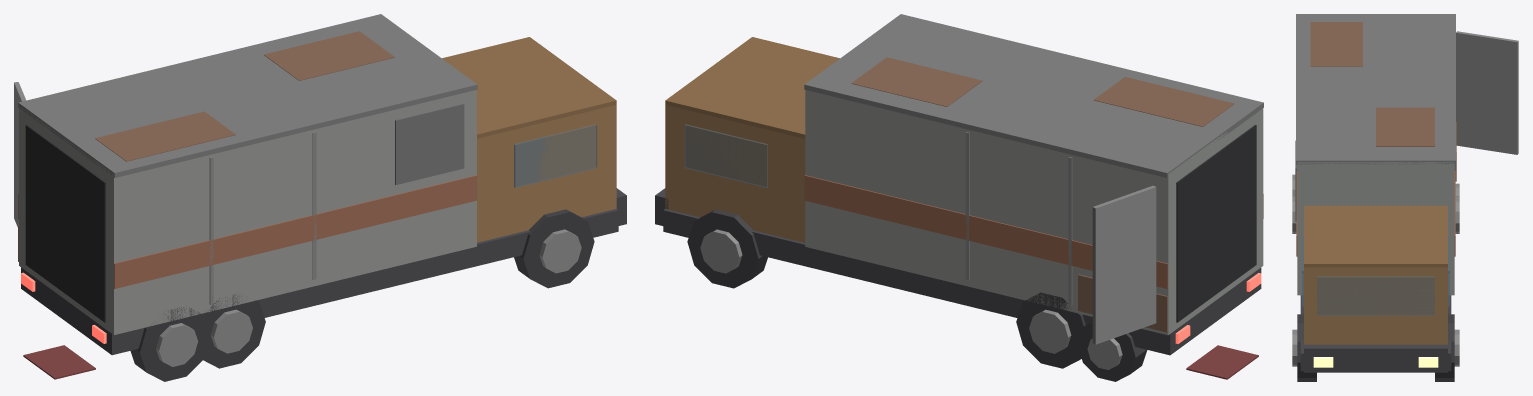
Rendered from caminhao.glb.
The picture shows the model from 3 angles, left to right: view 1: azimuth 30°, elevation 25°; view 2: azimuth 150°, elevation 25°; view 3: azimuth 270°, elevation 25°; orthographic projection. The views are drawn at different scales.
Parts seen in each view (by area): view 1: body, decor_grim, wheels, glass; view 2: body, wheels, decor_grim, glass; view 3: body, glass, decor_grim, wheels, lights_amber.
Part boxes in pixels (x1,y1,x2,y2): body: (14,14,626,355); decor_grim: (18,31,464,379); wheels: (130,209,594,381); glass: (514,124,597,187); body: (655,14,1263,355); wheels: (687,209,1147,381); decor_grim: (851,57,1258,379); glass: (684,124,767,187); body: (1296,14,1518,372); glass: (1302,237,1449,315); decor_grim: (1295,22,1456,221); wheels: (1292,174,1459,381); lights_amber: (1313,357,1438,367).
Bounding box in the file's own units: 8 × 3.13 × 3.46.
